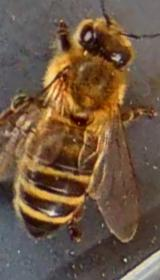varroa_mite: (62, 96, 94, 132)
